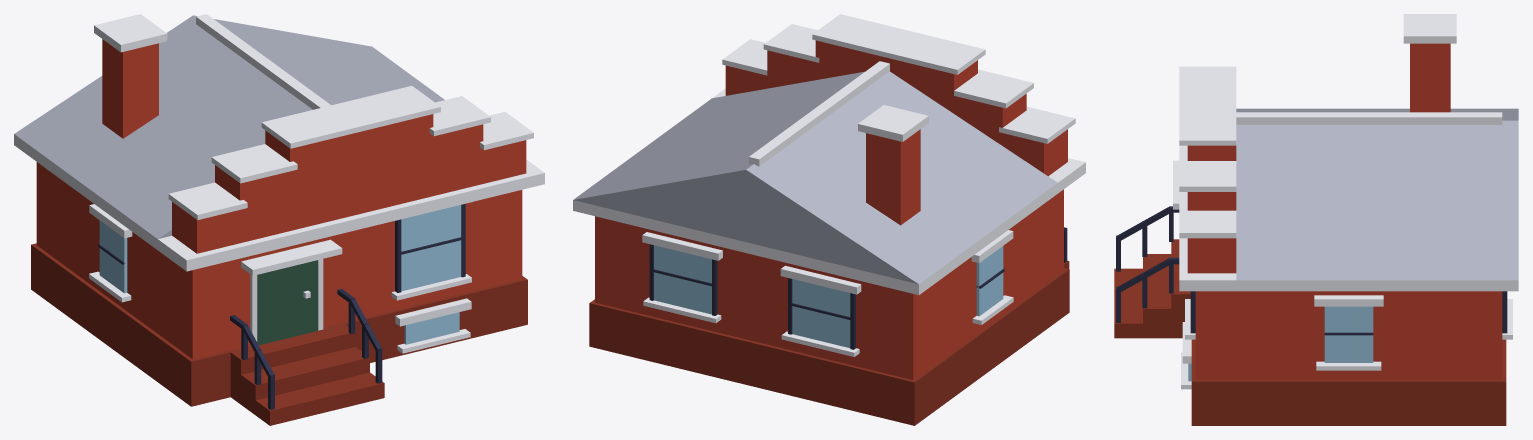
Rendered from house-1x1-1f-dutch-a.glb.
3 views of the same model, side by side, from view 1: azimuth 30°, elevation 25°; view 2: azimuth 150°, elevation 25°; view 3: azimuth 270°, elevation 25° (orthographic). The views are drawn at different scales.
Parts seen in each view (by area): view 1: house-1x1-1f-dutch-a; view 2: house-1x1-1f-dutch-a; view 3: house-1x1-1f-dutch-a.
Boxes of the visible parts, box(x1,y1,x2,y2) form: house-1x1-1f-dutch-a: box(14, 14, 544, 425); house-1x1-1f-dutch-a: box(573, 14, 1085, 425); house-1x1-1f-dutch-a: box(1114, 14, 1518, 425).
Size of the model in its own units: 1 by 0.73 by 0.995.
1 material, 1 textured.
